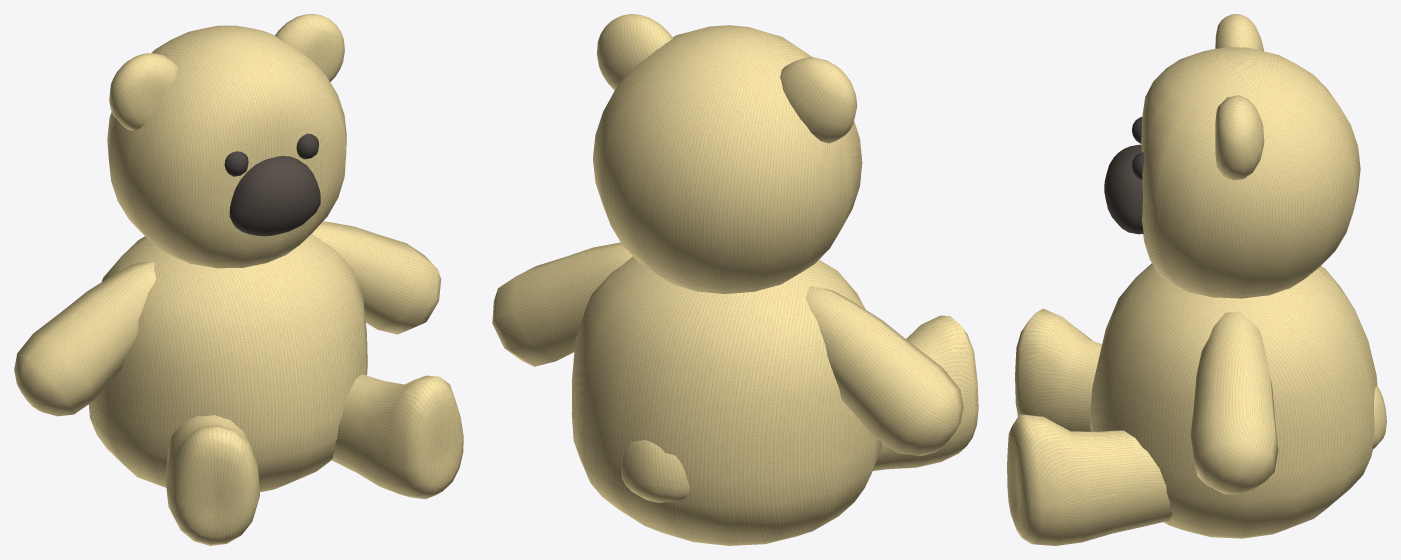
The model's file is teddy.fbx.
The picture shows the model from 3 angles, left to right: view 1: azimuth 30°, elevation 25°; view 2: azimuth 150°, elevation 25°; view 3: azimuth 270°, elevation 25°; orthographic projection. The views are drawn at different scales.
Visible parts, largest first — view 1: teddyBear_geo; view 2: teddyBear_geo; view 3: teddyBear_geo.
Boxes of the visible parts, <box> form: teddyBear_geo: <box>14,14,463,545</box>; teddyBear_geo: <box>492,14,978,545</box>; teddyBear_geo: <box>1007,14,1386,545</box>.
Size of the model in its own units: 6.25 by 6.38 by 4.78.
1 material, 1 textured.
